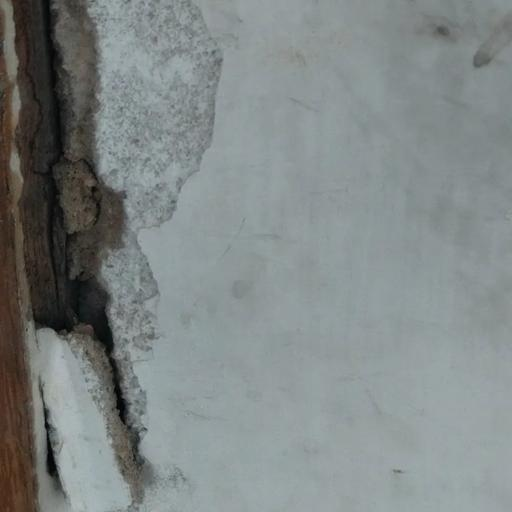spalling: (0, 0, 225, 512)
